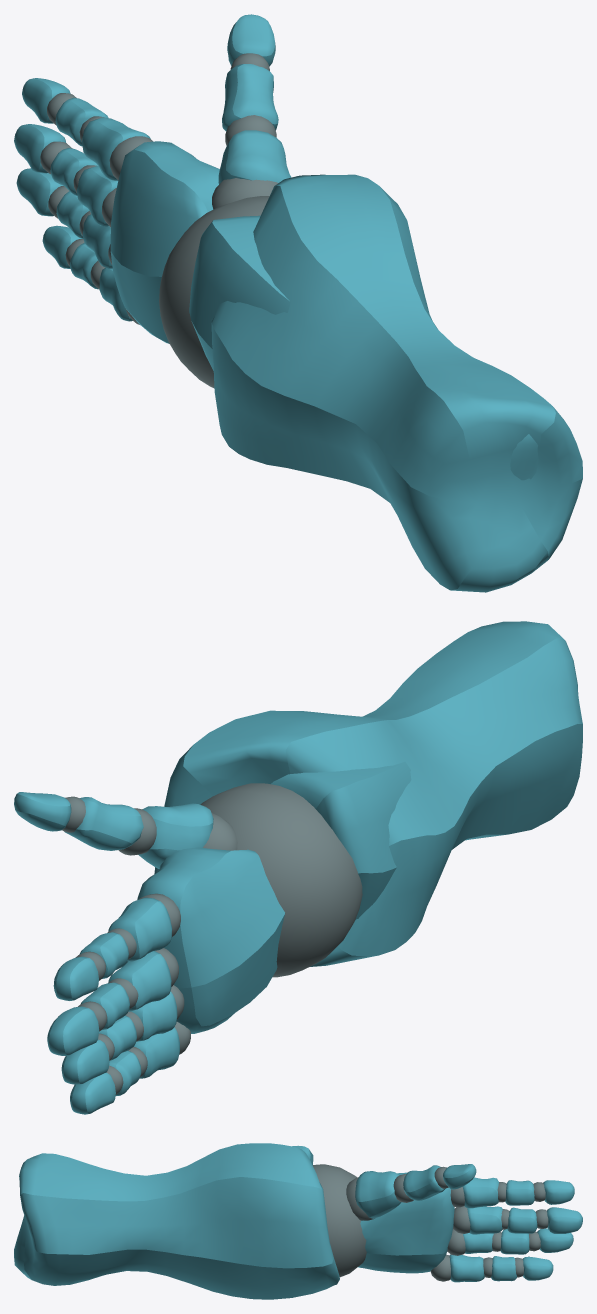
Rendered from armL.glb.
3 views of the same model, one above another, from view 1: azimuth 30°, elevation 25°; view 2: azimuth 150°, elevation 25°; view 3: azimuth 270°, elevation 25° (orthographic). The views are drawn at different scales.
Parts seen in each view (by area): view 1: Upper_Arm, Hand, Forearm, Shoulder, Hand_Joints; view 2: Upper_Arm, Hand, Shoulder, Forearm, Hand_Joints; view 3: Upper_Arm, Hand, Hand_Joints, Shoulder.
Part boxes in pixels (x1=…): Upper_Arm: x1=211, y1=174, x2=582, y2=592; Hand: x1=14, y1=14, x2=291, y2=343; Forearm: x1=189, y1=215, x2=538, y2=480; Shoulder: x1=159, y1=196, x2=269, y2=387; Hand_Joints: x1=40, y1=53, x2=277, y2=325; Upper_Arm: x1=154, y1=621, x2=582, y2=966; Hand: x1=14, y1=792, x2=284, y2=1114; Shoulder: x1=200, y1=783, x2=362, y2=977; Forearm: x1=271, y1=762, x2=411, y2=920; Hand_Joints: x1=62, y1=796, x2=237, y2=1094; Upper_Arm: x1=14, y1=1143, x2=339, y2=1299; Hand: x1=355, y1=1164, x2=582, y2=1282; Hand_Joints: x1=346, y1=1166, x2=548, y2=1281; Shoulder: x1=312, y1=1164, x2=366, y2=1277.
Bounding box in the file's own units: 0.45 × 0.4901 × 1.63.
